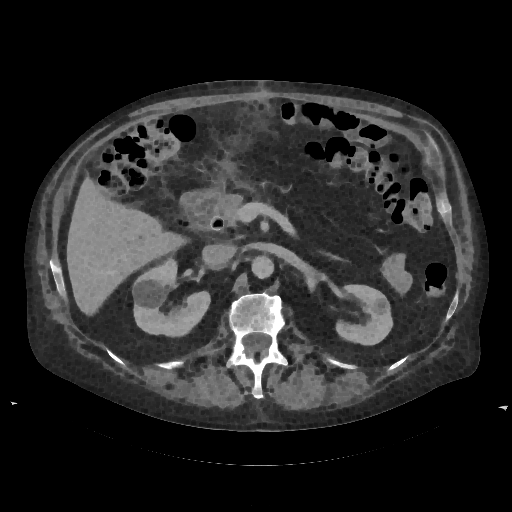Lesion: (129, 277, 170, 311)
